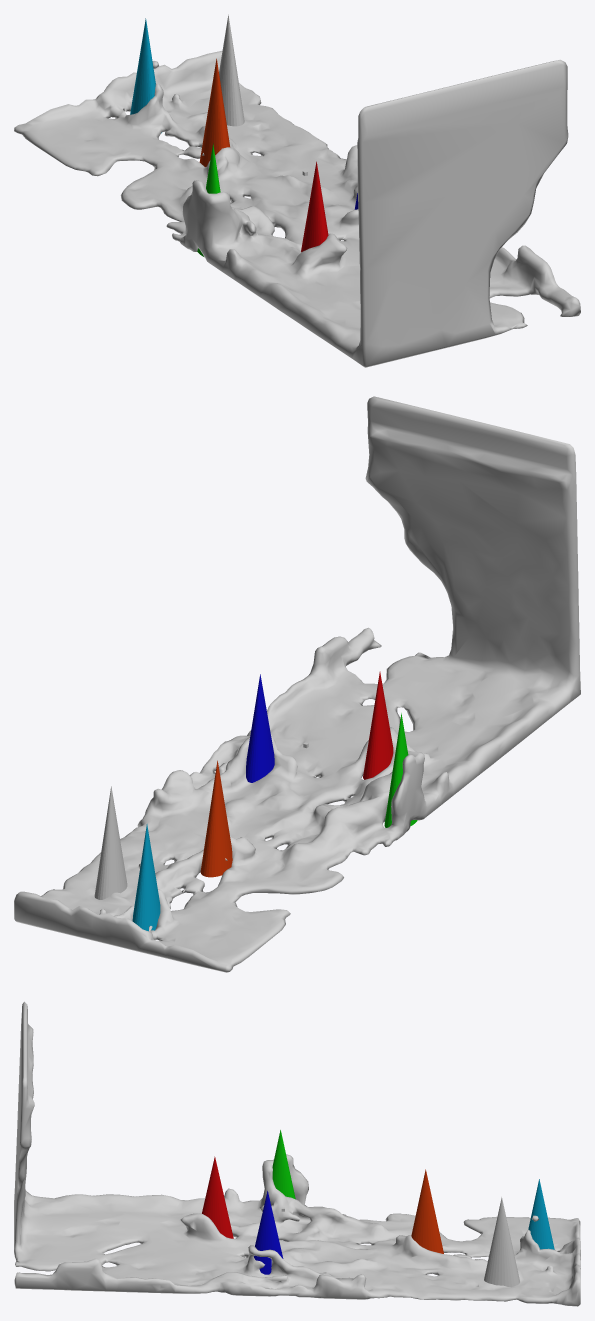
3 views of the same model, one above another, from view 1: azimuth 30°, elevation 25°; view 2: azimuth 150°, elevation 25°; view 3: azimuth 270°, elevation 25° (orthographic). The views are drawn at different scales.
Parts seen in each view (by area): view 1: Liquid_Domain, 円錐, 円錐.004, 円錐.001, 円錐.005, 円錐.003; view 2: Liquid_Domain, 円錐.004, 円錐, 円錐.002, 円錐.001, 円錐.005, 円錐.003; view 3: Liquid_Domain, 円錐, 円錐.004, 円錐.001, 円錐.002, 円錐.005, 円錐.003.
Boxes of the visible parts, box(x1,y1,x2,y2) form: Liquid_Domain: box(14, 50, 580, 367); 円錐: box(219, 14, 244, 126); 円錐.004: box(199, 58, 229, 166); 円錐.001: box(301, 161, 328, 252); 円錐.005: box(130, 18, 161, 133); 円錐.003: box(197, 143, 220, 256); Liquid_Domain: box(14, 396, 580, 972); 円錐.004: box(200, 760, 232, 877); 円錐: box(94, 786, 127, 899); 円錐.002: box(246, 674, 274, 782); 円錐.001: box(363, 671, 393, 779); 円錐.005: box(132, 824, 160, 931); 円錐.003: box(384, 713, 417, 827); Liquid_Domain: box(14, 1001, 580, 1306); 円錐: box(484, 1197, 519, 1287); 円錐.004: box(411, 1169, 443, 1253); 円錐.001: box(202, 1156, 233, 1238); 円錐.002: box(254, 1191, 283, 1274); 円錐.005: box(528, 1179, 554, 1249); 円錐.003: box(272, 1130, 295, 1199).
Bounding box in the file's own units: 129 × 158 × 361.
